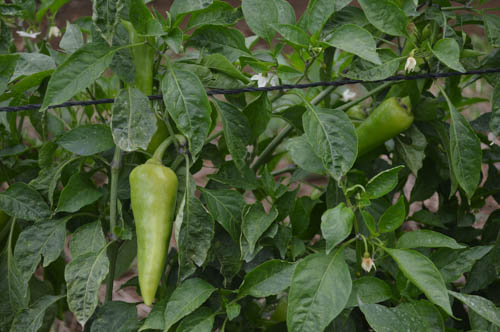ChiliPepper: (127, 165, 180, 303), (349, 99, 416, 162), (119, 23, 156, 113)
